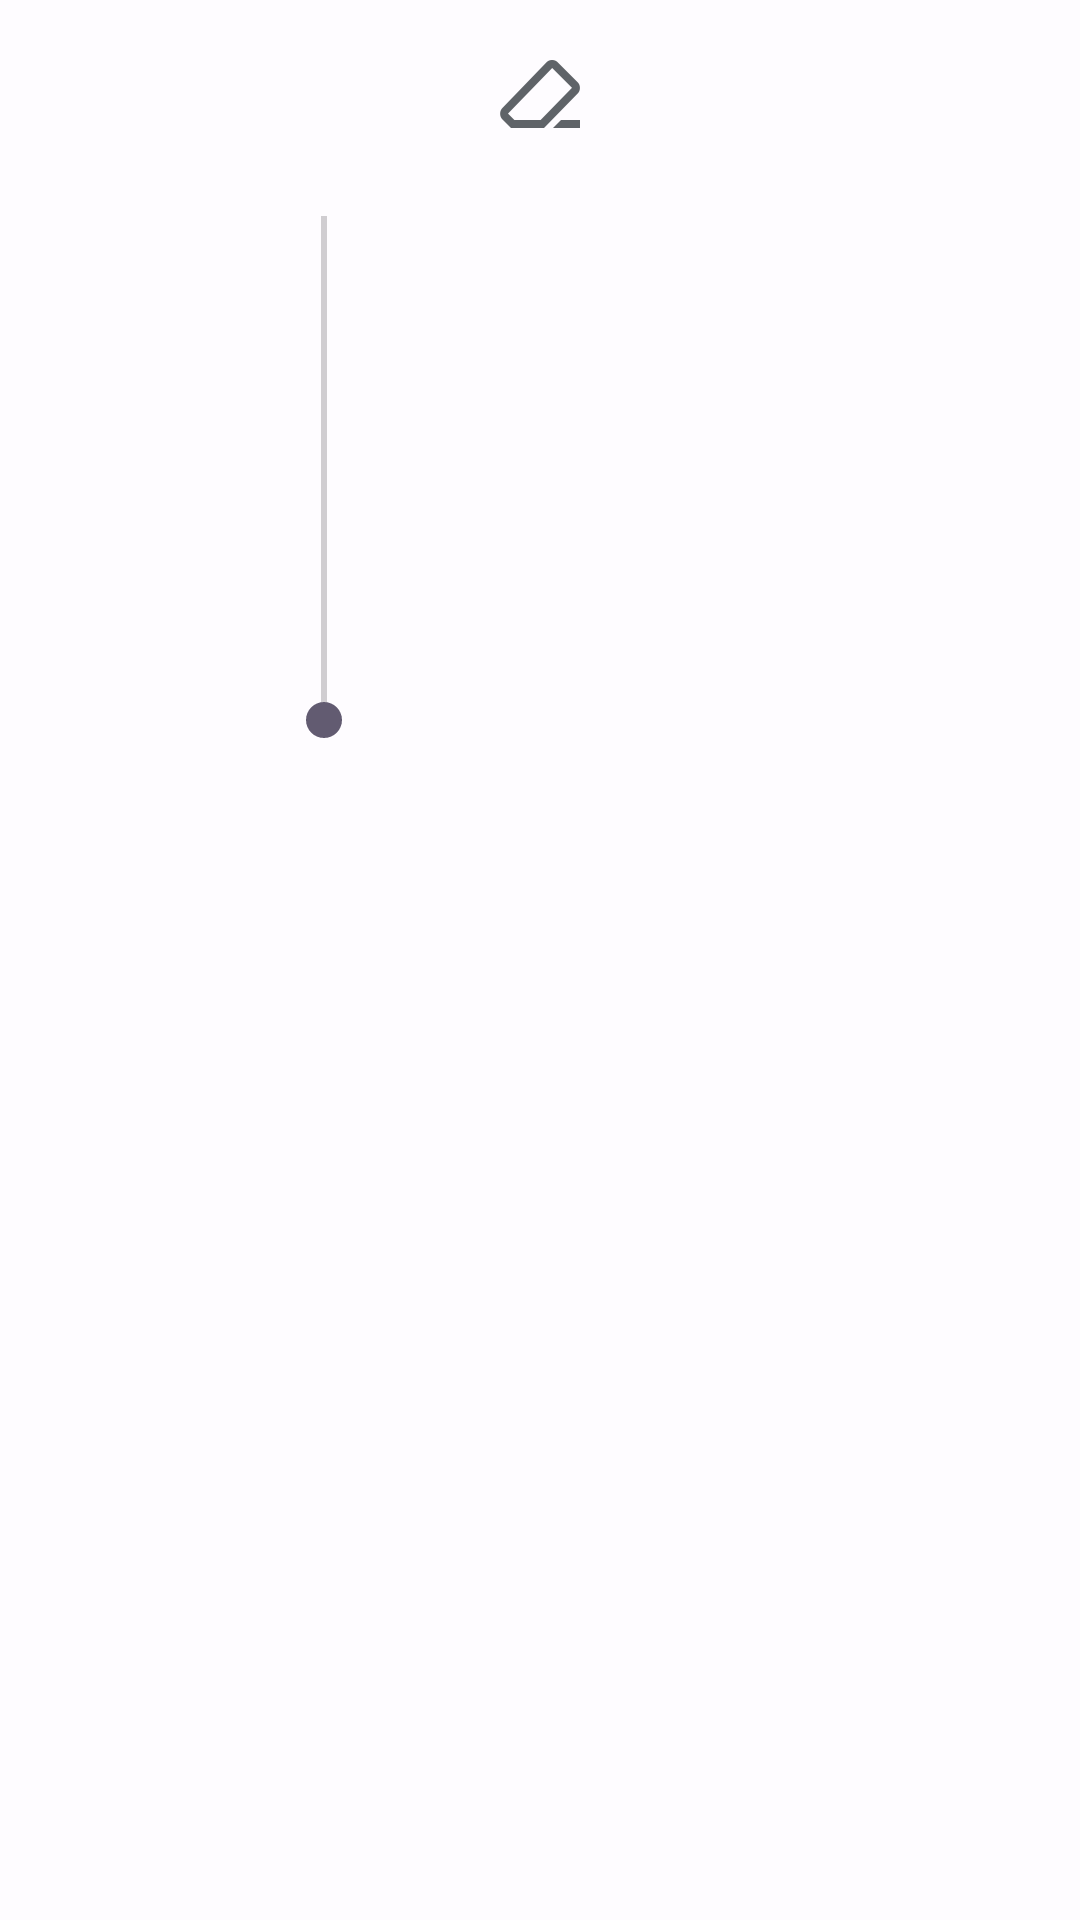

Icons on this 1080*1920 Android screen, each with its box as (x1, y1, x2, y2):
eraser: (500, 60, 580, 128)
